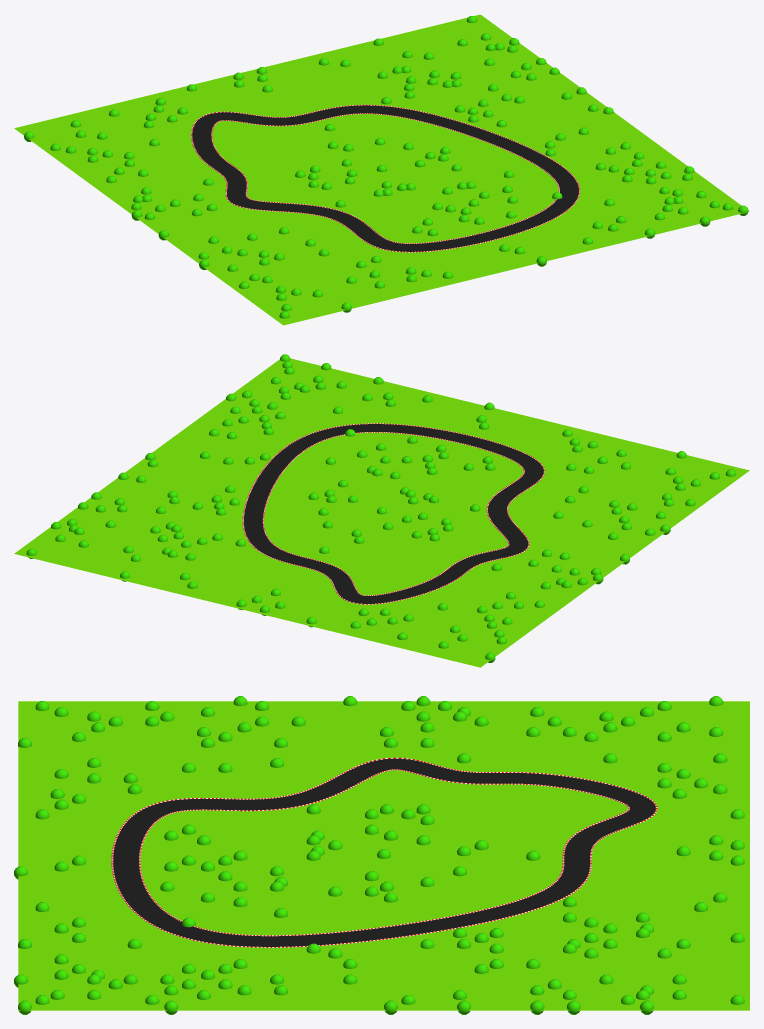
File: Race Track.fbx
3 views of the same model, one above another, from view 1: azimuth 30°, elevation 25°; view 2: azimuth 150°, elevation 25°; view 3: azimuth 270°, elevation 25° (orthographic). The views are drawn at different scales.
Parts seen in each view (by area): view 1: Plane.002, Plane.001; view 2: Plane.002, Plane.001; view 3: Plane.002, Plane.001.
Part boxes in pixels (x1,y1,x2,y2): Plane.002: (14, 14, 749, 325); Plane.001: (191, 104, 580, 252); Plane.002: (14, 358, 749, 667); Plane.001: (242, 423, 544, 604); Plane.002: (18, 701, 749, 1010); Plane.001: (111, 757, 657, 947).
Size of the model in its own units: 20080 by 400 by 20092.
